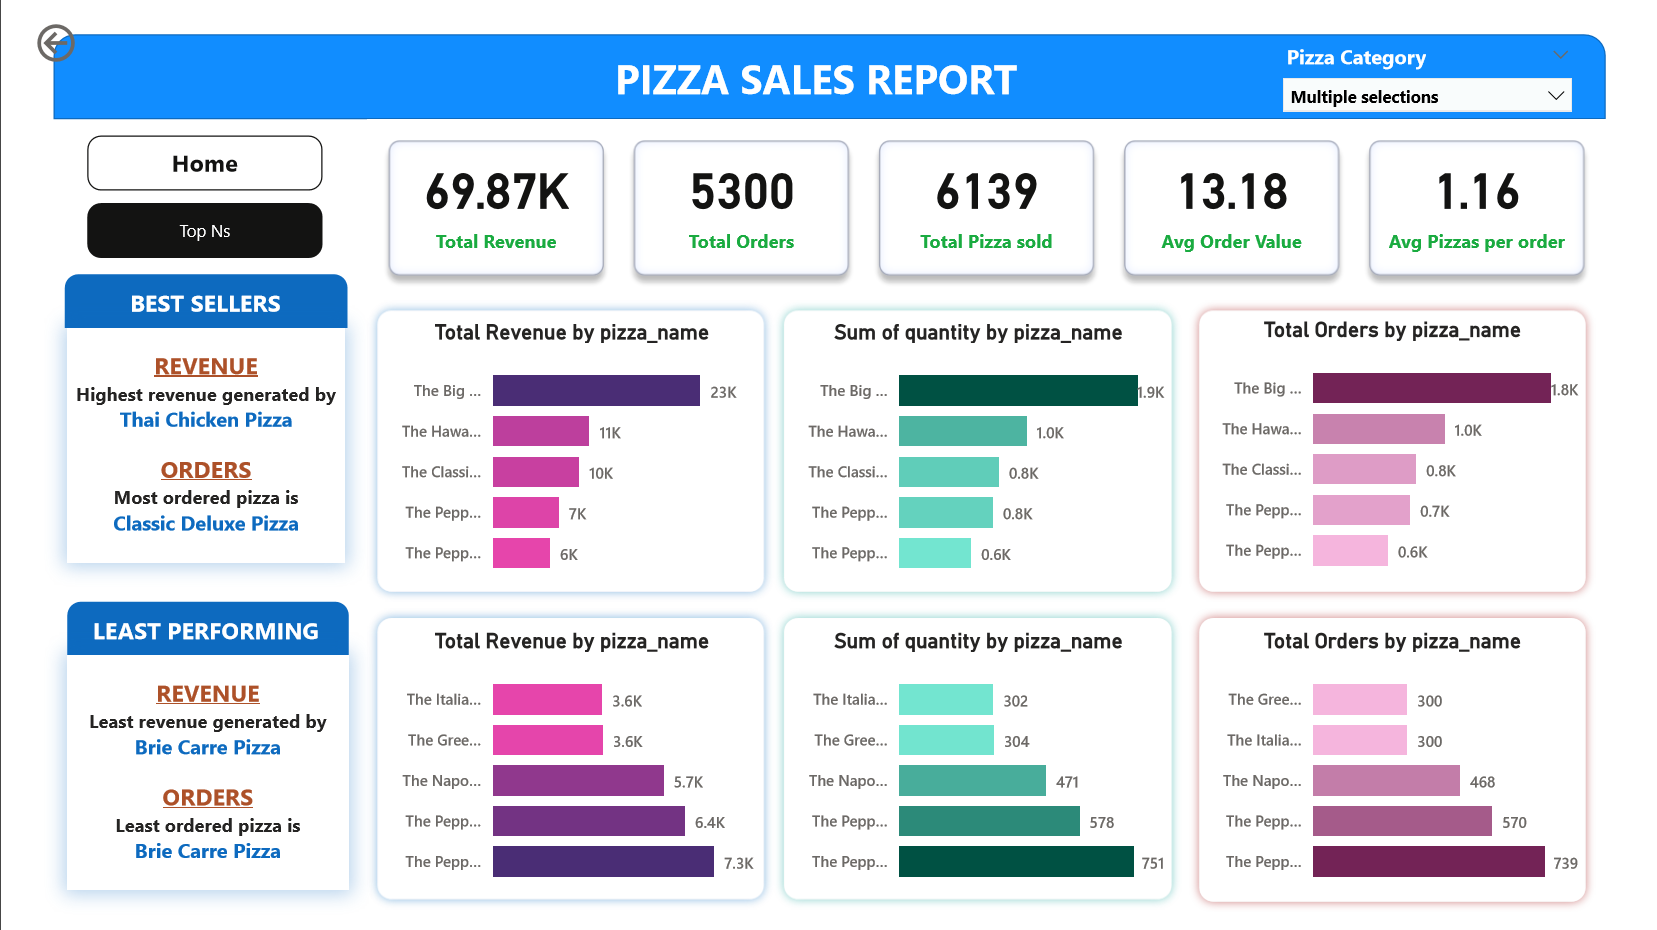

Layout of this report page (visuals, bound fields, positions):
{"tool":"powerbi","page":{"name":"Top Ns","canvas":[1280,720],"ordinal":1},"visuals":[{"type":"shape","box":[17.9,13.1,1241.2,67.9],"z":0},{"type":"textbox","box":[461.9,20.5,352.2,56.7],"z":1000},{"type":"cardVisual","fields":{"Data":["Key Measures.Total Revenue","Key Measures.Total Orders","Key Measures.Total Pizza sold","Key Measures.Avg Order Value","Key Measures.Avg Pizzas per order"]},"box":[269.2,81,989.8,141.7],"z":2000},{"type":"shape","box":[269.2,471.7,325.2,241.8],"z":3000},{"type":"shape","box":[594.4,472,325.2,241],"z":4000},{"type":"shape","box":[925.5,471.7,325.2,243],"z":5000},{"type":"shape","box":[27.4,204.9,225.1,42.9],"z":6000},{"type":"textbox","box":[28.6,247.8,222.7,188.2],"z":7000},{"type":"textbox","box":[63.1,209.6,152.5,42.9],"z":8000},{"type":"shape","box":[28.6,466.9,225.1,42.9],"z":9000},{"type":"textbox","box":[28.6,509.8,225.1,188.2],"z":10000},{"type":"textbox","box":[36.9,471.7,206.1,42.9],"z":11000},{"type":"shape","box":[925.5,226.3,325.2,240.6],"z":12000},{"type":"shape","box":[594.4,226.3,325.2,240.6],"z":13000},{"type":"shape","box":[269.2,226.3,325.2,240.6],"z":14000},{"type":"clusteredBarChart","fields":{"Category":["pizza_sales.pizza_name"],"Y":["Key Measures.Total Revenue"]},"box":[278.7,240.6,307.3,218],"z":15000},{"type":"clusteredBarChart","fields":{"Y":["Key Measures.Total Orders"],"Category":["pizza_sales.pizza_name"]},"box":[935,239.4,307.3,218],"z":16000},{"type":"clusteredBarChart","fields":{"Y":["Sum(pizza_sales.quantity)"],"Category":["pizza_sales.pizza_name"]},"box":[603.9,240.6,307.3,218],"z":17000},{"type":"clusteredBarChart","fields":{"Category":["pizza_sales.pizza_name"],"Y":["Key Measures.Total Revenue"]},"box":[278.7,488.4,307.3,218],"z":18000},{"type":"clusteredBarChart","fields":{"Y":["Sum(pizza_sales.quantity)"],"Category":["pizza_sales.pizza_name"]},"box":[603.9,488.4,307.3,218],"z":19000},{"type":"actionButton","box":[0,0,100,40],"z":20000},{"type":"clusteredBarChart","fields":{"Y":["Key Measures.Total Orders"],"Category":["pizza_sales.pizza_name"]},"box":[935,488.4,307.3,218],"z":21000},{"type":"pageNavigator","box":[45.3,94.1,188.2,44.1],"z":22000},{"type":"pageNavigator","box":[45.3,147.7,188.2,44.1],"z":23000},{"type":"slicer","fields":{"Values":["pizza_sales.pizza_category","pizza_sales.Pizza Size"]},"box":[991,15.5,251.3,65.5],"z":24000}]}

Visuals, with their boxes in screenshot pixels (x1, y1, x2, y2), scaled from the page's 1280x720 canvas onto the 1657x930 screenshot:
shape: [23,17,1630,105]
textbox: [598,26,1054,100]
cardVisual - Key Measures.Total Revenue x Key Measures.Total Orders: [348,105,1630,288]
shape: [348,609,769,922]
shape: [769,610,1190,921]
shape: [1198,609,1619,923]
shape: [35,265,327,320]
textbox: [37,320,325,563]
textbox: [82,271,279,326]
shape: [37,603,328,658]
textbox: [37,658,328,902]
textbox: [48,609,315,665]
shape: [1198,292,1619,603]
shape: [769,292,1190,603]
shape: [348,292,769,603]
clusteredBarChart - pizza_sales.pizza_name x Key Measures.Total Revenue: [361,311,759,592]
clusteredBarChart - Key Measures.Total Orders x pizza_sales.pizza_name: [1210,309,1608,591]
clusteredBarChart - Sum(pizza_sales.quantity) x pizza_sales.pizza_name: [782,311,1180,592]
clusteredBarChart - pizza_sales.pizza_name x Key Measures.Total Revenue: [361,631,759,912]
clusteredBarChart - Sum(pizza_sales.quantity) x pizza_sales.pizza_name: [782,631,1180,912]
actionButton: [0,0,129,52]
clusteredBarChart - Key Measures.Total Orders x pizza_sales.pizza_name: [1210,631,1608,912]
pageNavigator: [59,122,302,179]
pageNavigator: [59,191,302,248]
slicer - pizza_sales.pizza_category x pizza_sales.Pizza Size: [1283,20,1608,105]
